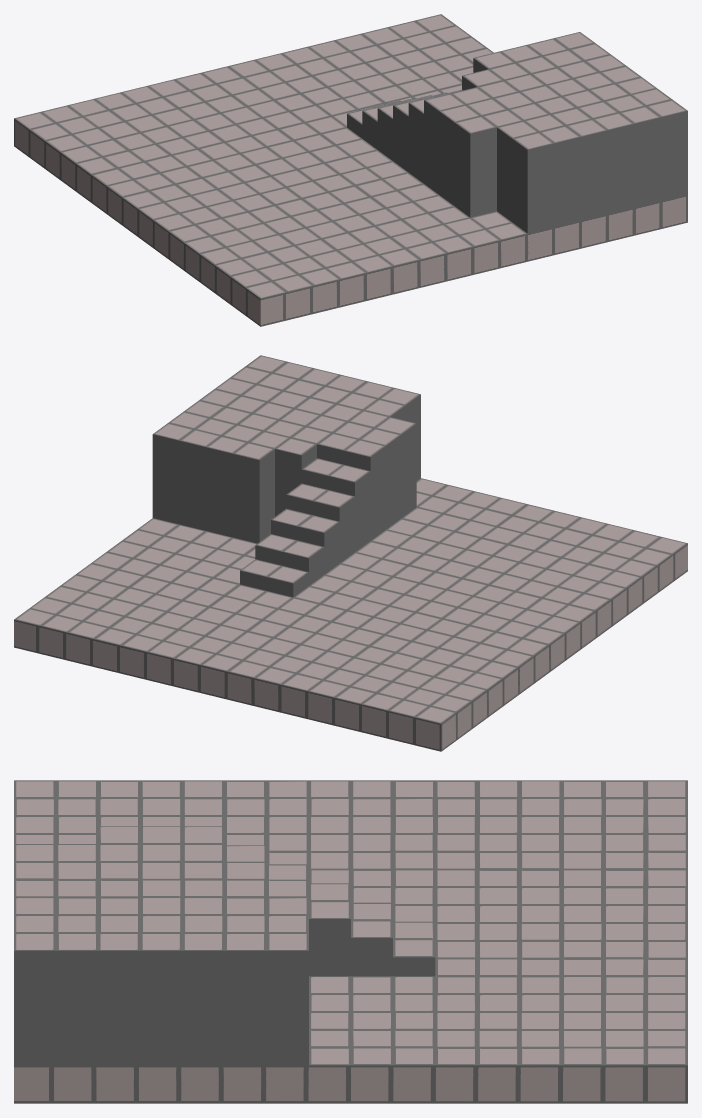
File: MAPS3.glb
The picture shows the model from 3 angles, top to bottom: view 1: azimuth 30°, elevation 25°; view 2: azimuth 150°, elevation 25°; view 3: azimuth 270°, elevation 25°; orthographic projection. The views are drawn at different scales.
Visible parts, largest first — view 1: Cube; view 2: Cube; view 3: Cube.
Part boxes in pixels (x1,y1,x2,y2): Cube: (14,14,687,326); Cube: (14,355,687,751); Cube: (14,780,687,1103).
Size of the model in its own units: 16 by 4 by 16.
Materials: 2 (2 with a texture image).
